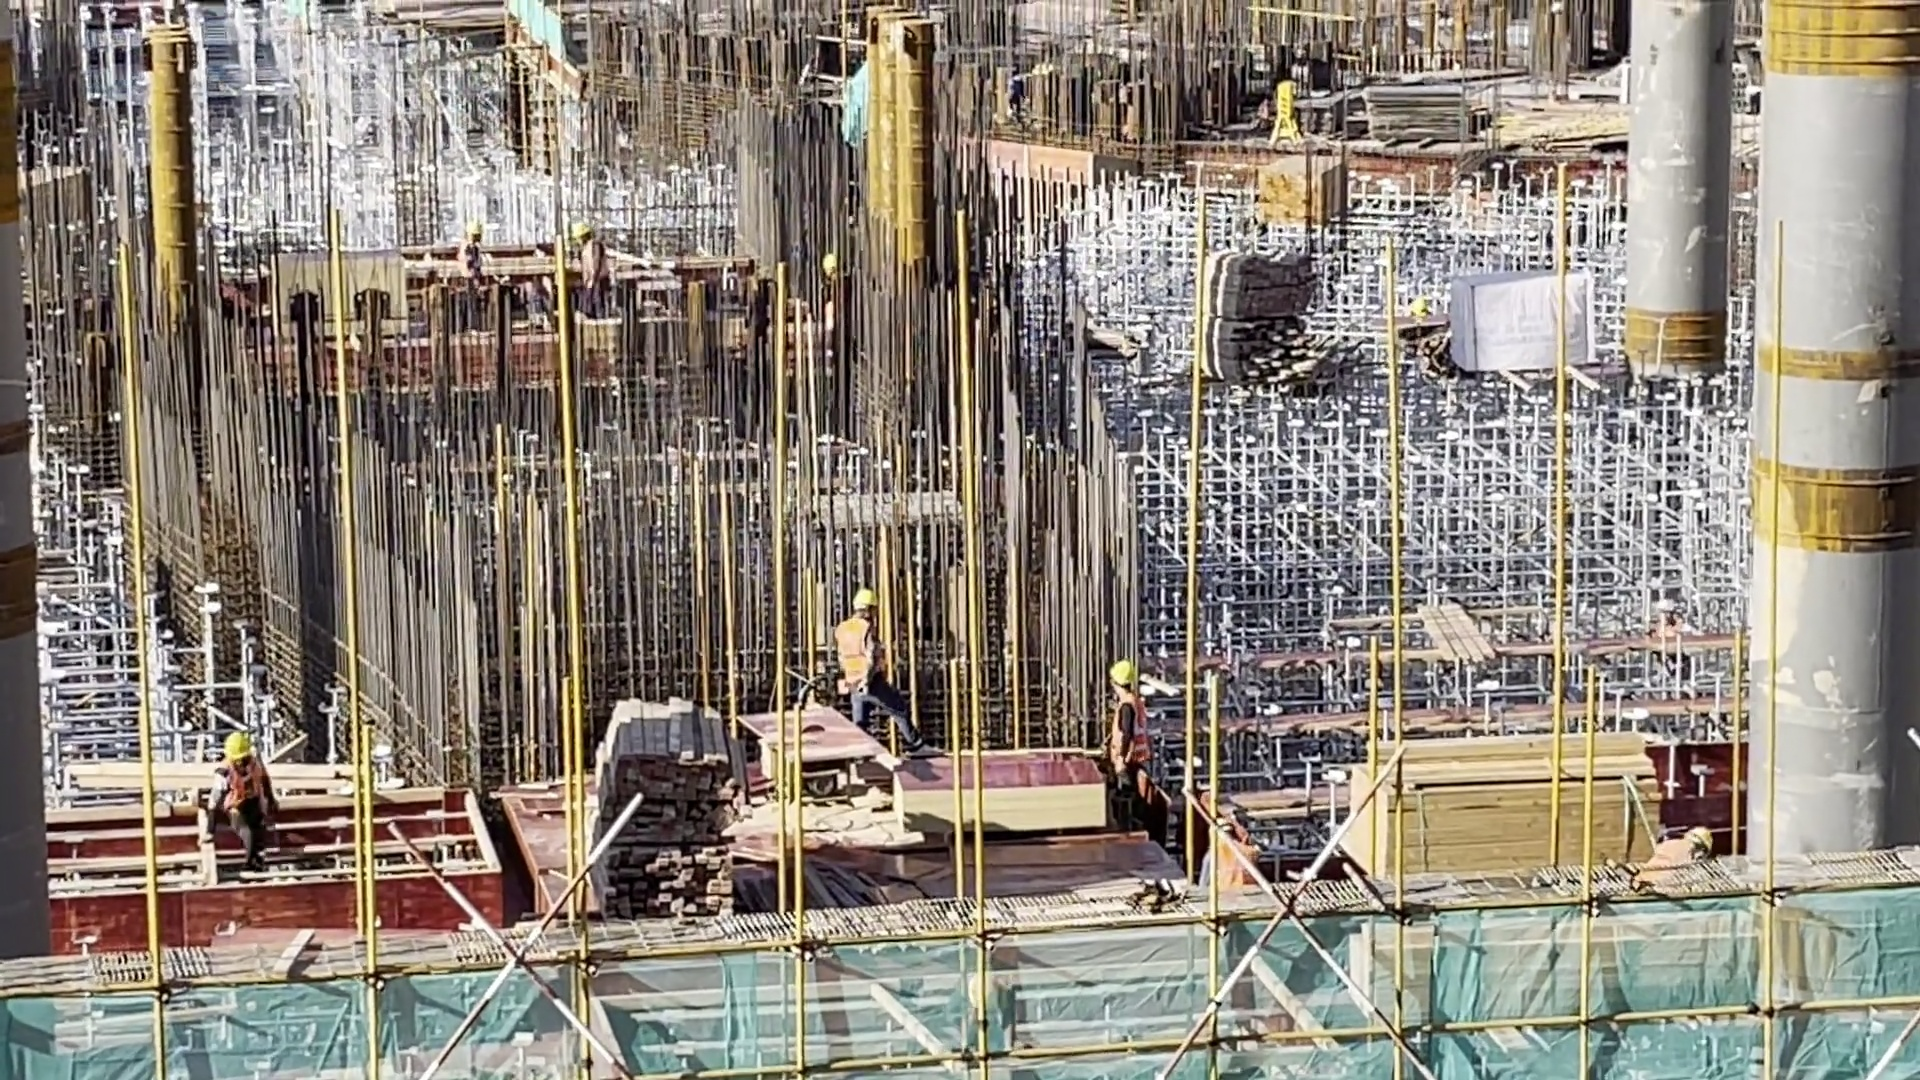helmet: (1108, 659, 1140, 686), (223, 731, 249, 760), (1685, 824, 1713, 851), (850, 588, 881, 610), (568, 221, 591, 237), (821, 256, 838, 271), (465, 219, 482, 234)
person: (822, 587, 922, 754), (195, 724, 289, 875), (1101, 657, 1159, 831), (568, 220, 616, 316), (453, 218, 489, 333), (1648, 823, 1721, 863)
vest: (835, 616, 881, 686), (1111, 694, 1151, 772), (219, 761, 264, 806), (579, 241, 609, 282), (456, 243, 481, 278)
